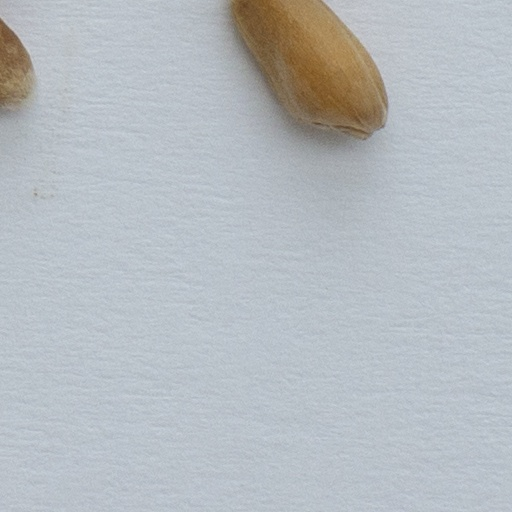Wheat-grain-poly: (227, 0, 391, 144), (0, 14, 34, 109)
